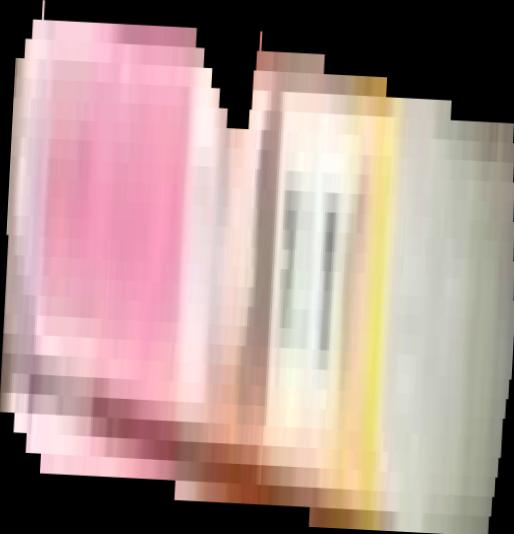flat: (1, 1, 514, 534)
